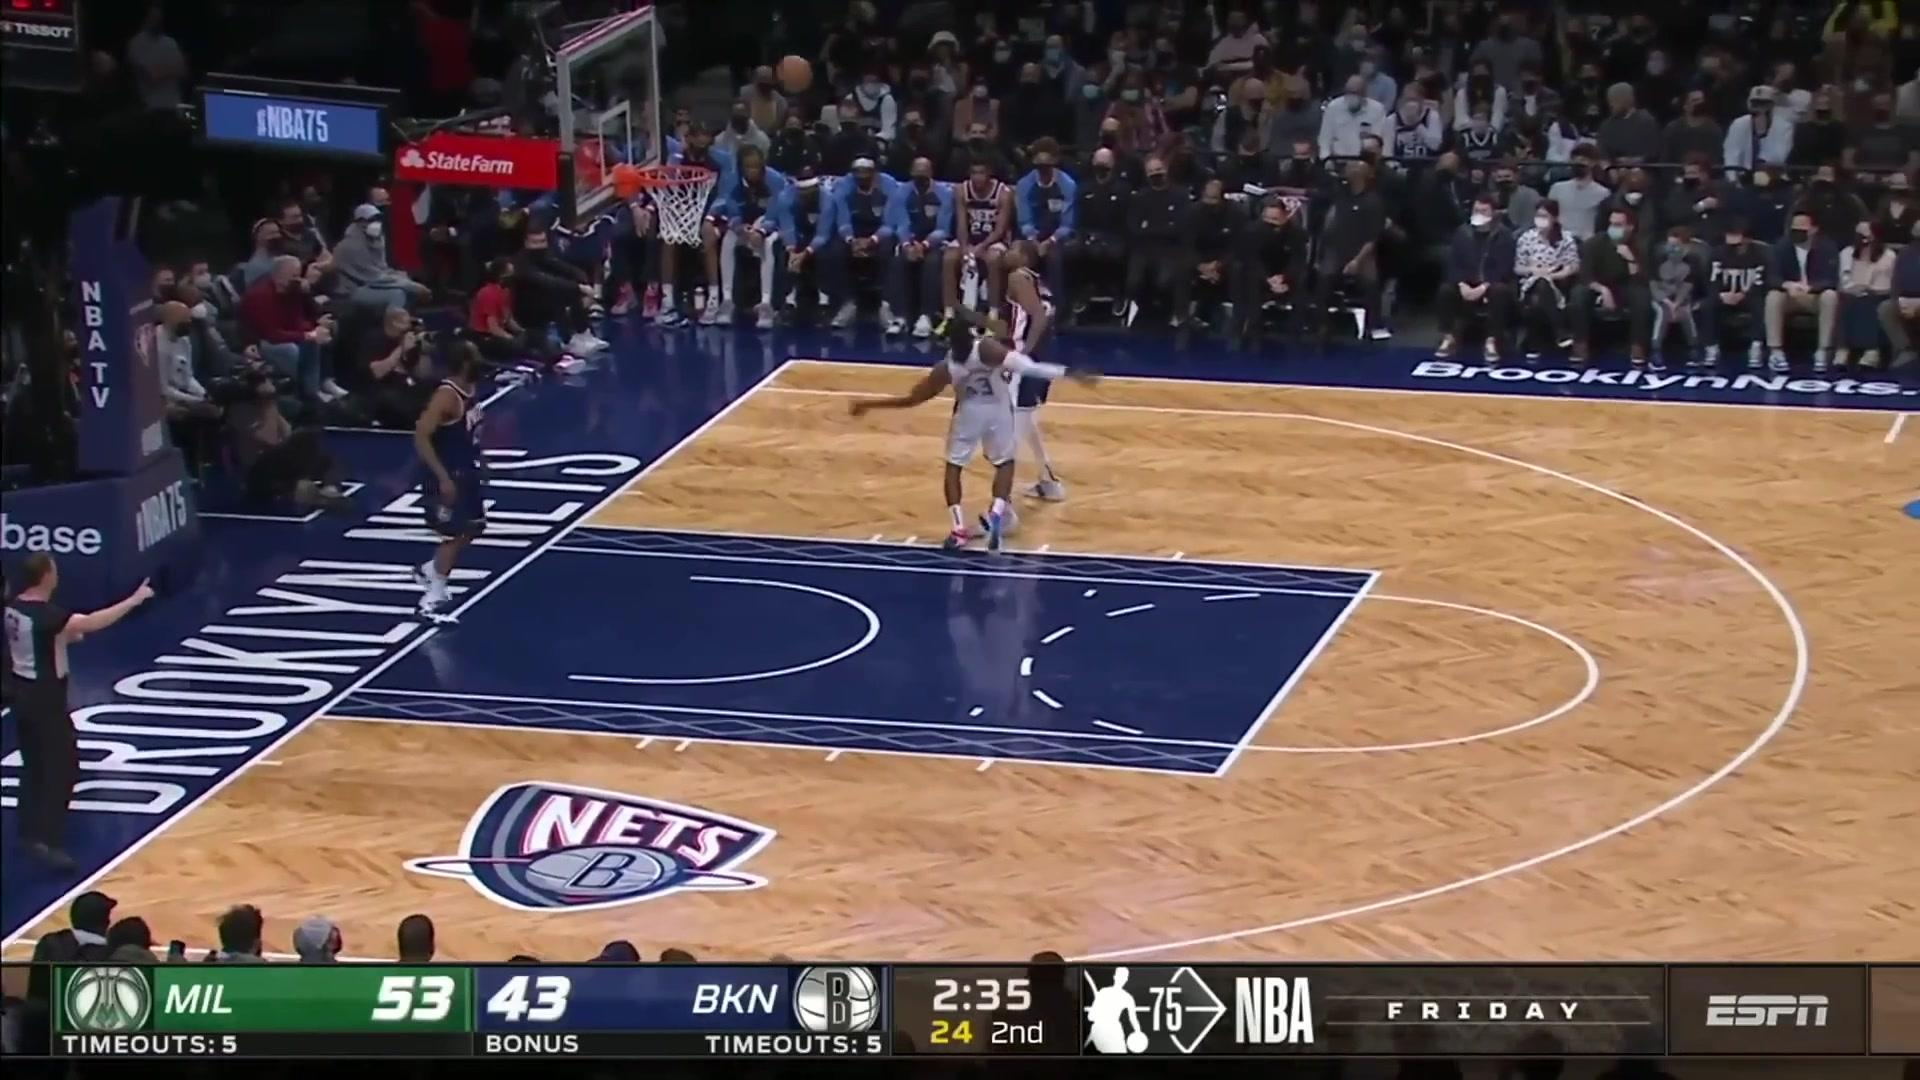foul: (918, 233, 1079, 562)
